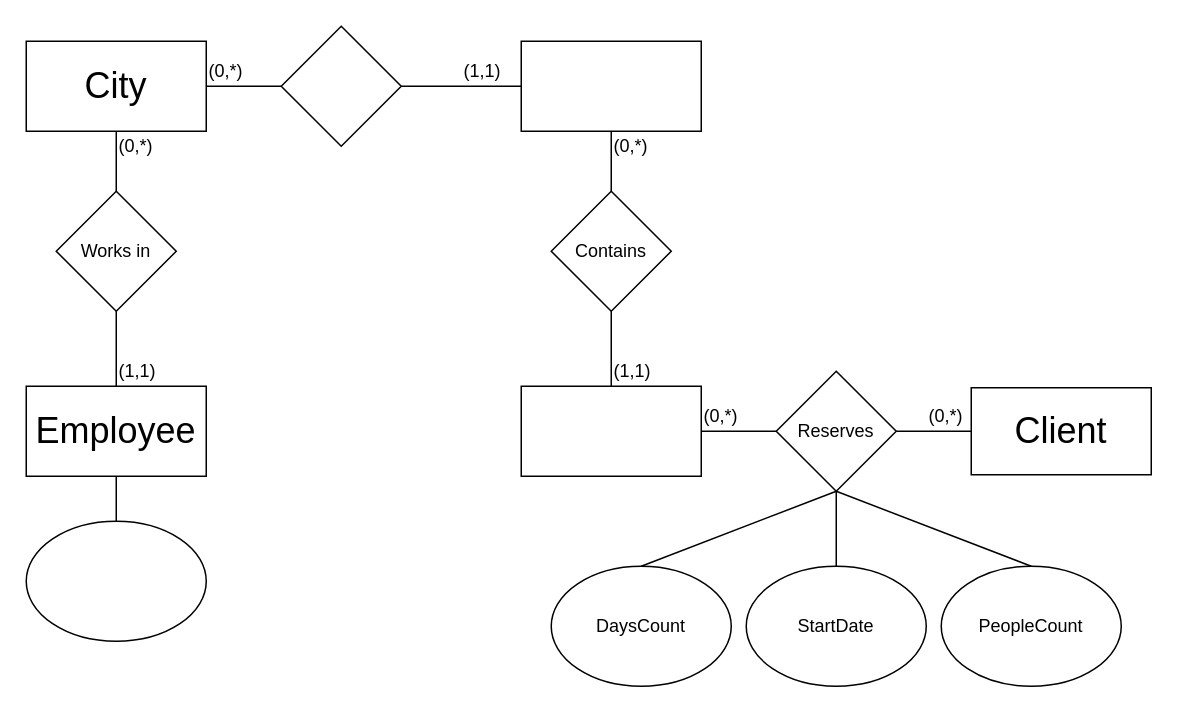
Image size: 1178x713. Some labels were removed from this diagram. Each missing label, with the box of its shape:
Hotel: (520, 40, 701, 131)
JobTitle: (25, 520, 206, 641)
Located in: (280, 25, 401, 146)
Room: (520, 385, 701, 476)
